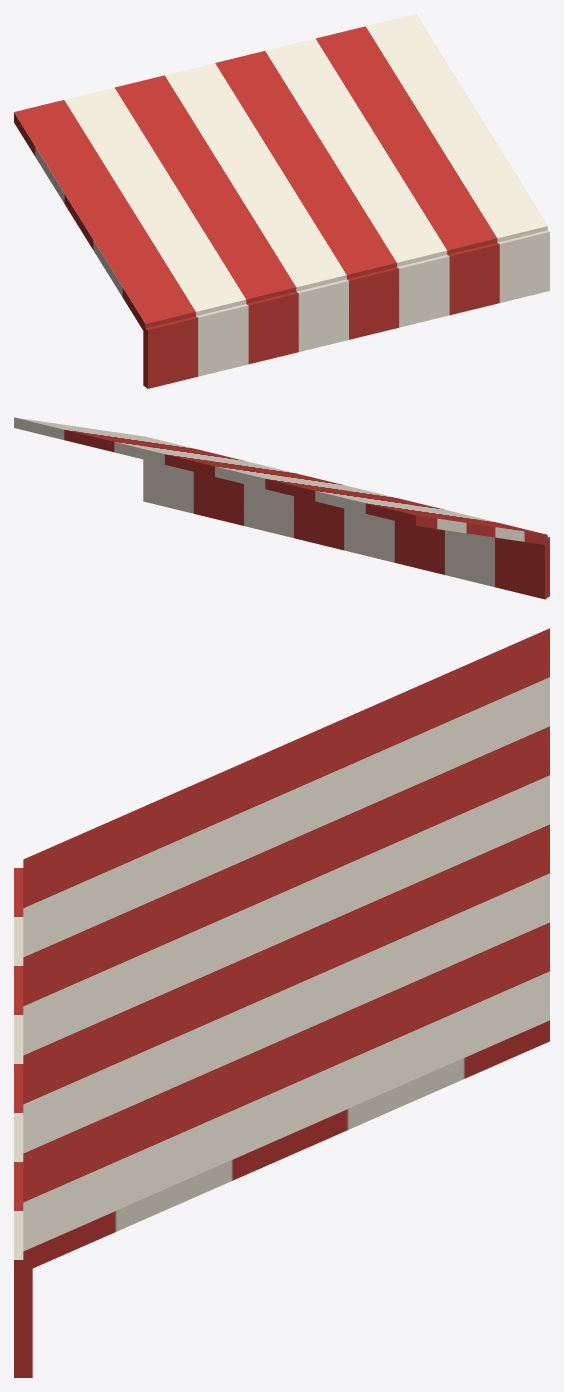
Rendered from awning_striped.glb.
The picture shows the model from 3 angles, top to bottom: view 1: azimuth 30°, elevation 25°; view 2: azimuth 150°, elevation 25°; view 3: azimuth 270°, elevation 25°; orthographic projection. The views are drawn at different scales.
Visible parts, largest first — view 1: awning_striped_canvas; view 2: awning_striped_canvas; view 3: awning_striped_canvas.
Boxes of the visible parts, bbox=[...] form: awning_striped_canvas: bbox=[14, 14, 549, 388]; awning_striped_canvas: bbox=[14, 417, 549, 599]; awning_striped_canvas: bbox=[14, 628, 549, 1377].
Size of the model in its own units: 2 by 0.85 by 1.16.
Materials: 1 (1 with a texture image).
